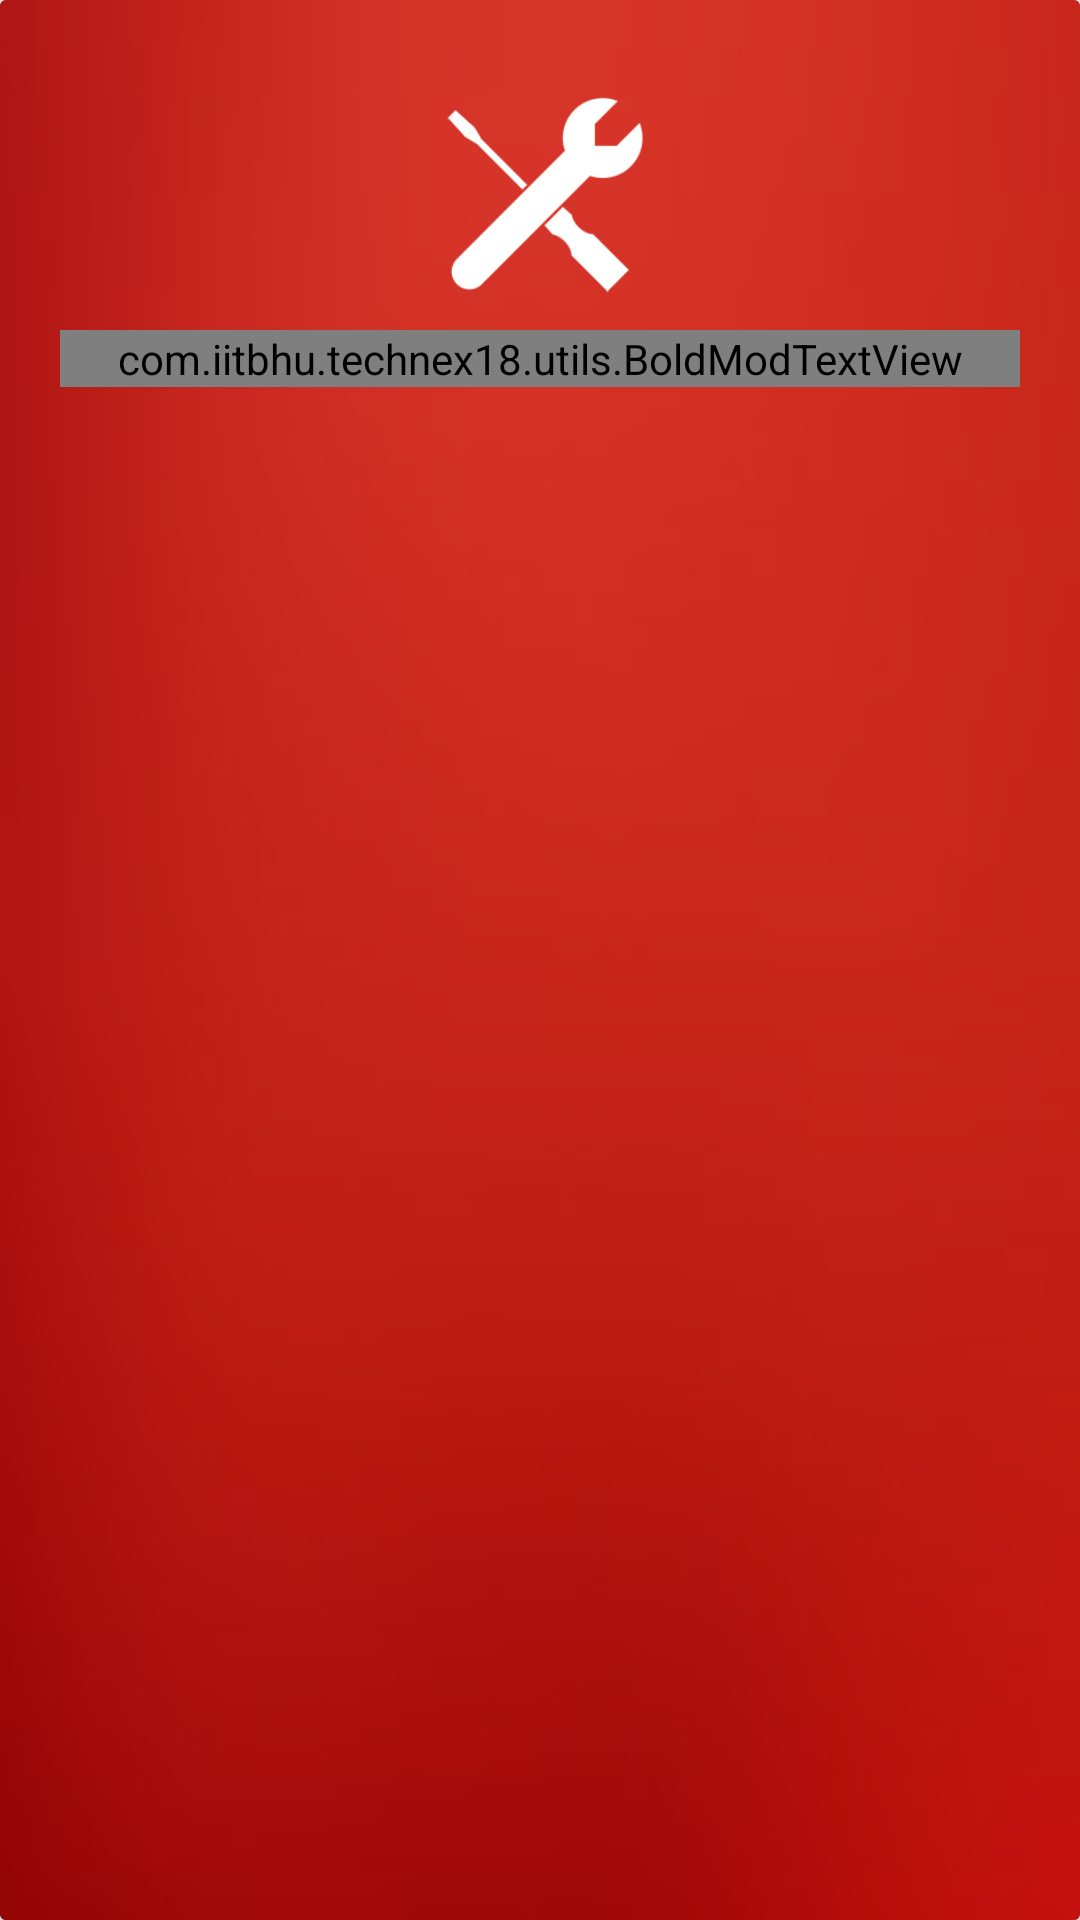

Screen size 1080 × 1920. Icon name, then its center in pixels as point (x, y):
workshop: point (545, 194)
